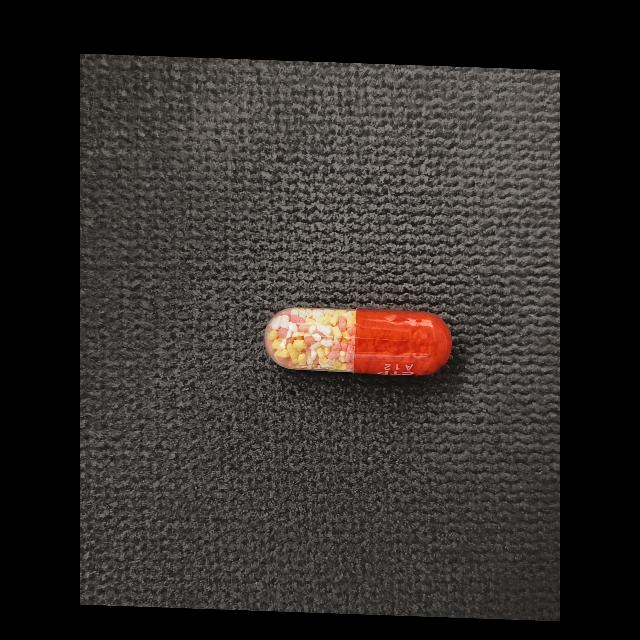Intact Capsule: (265, 307, 452, 376)
